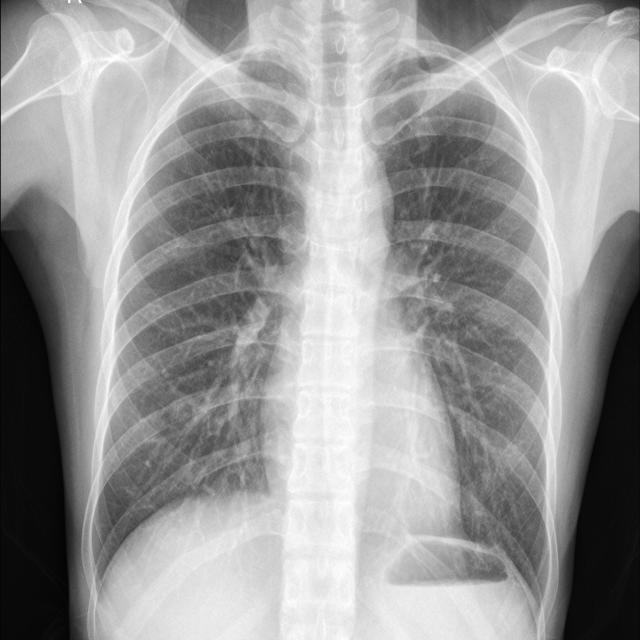no-pneumonia: (95, 58, 305, 574), (372, 57, 554, 600)
